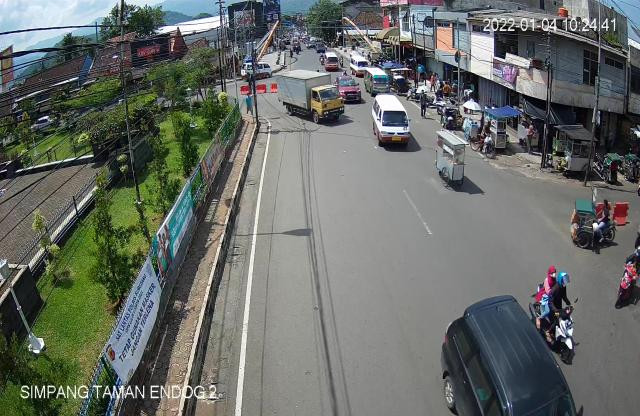Becak: (566, 186, 618, 250)
Mobil: (436, 296, 578, 416), (365, 94, 414, 149), (335, 72, 362, 105), (364, 66, 393, 96)
Motor: (529, 266, 583, 353), (610, 241, 640, 320)
Truk: (275, 66, 346, 133)
